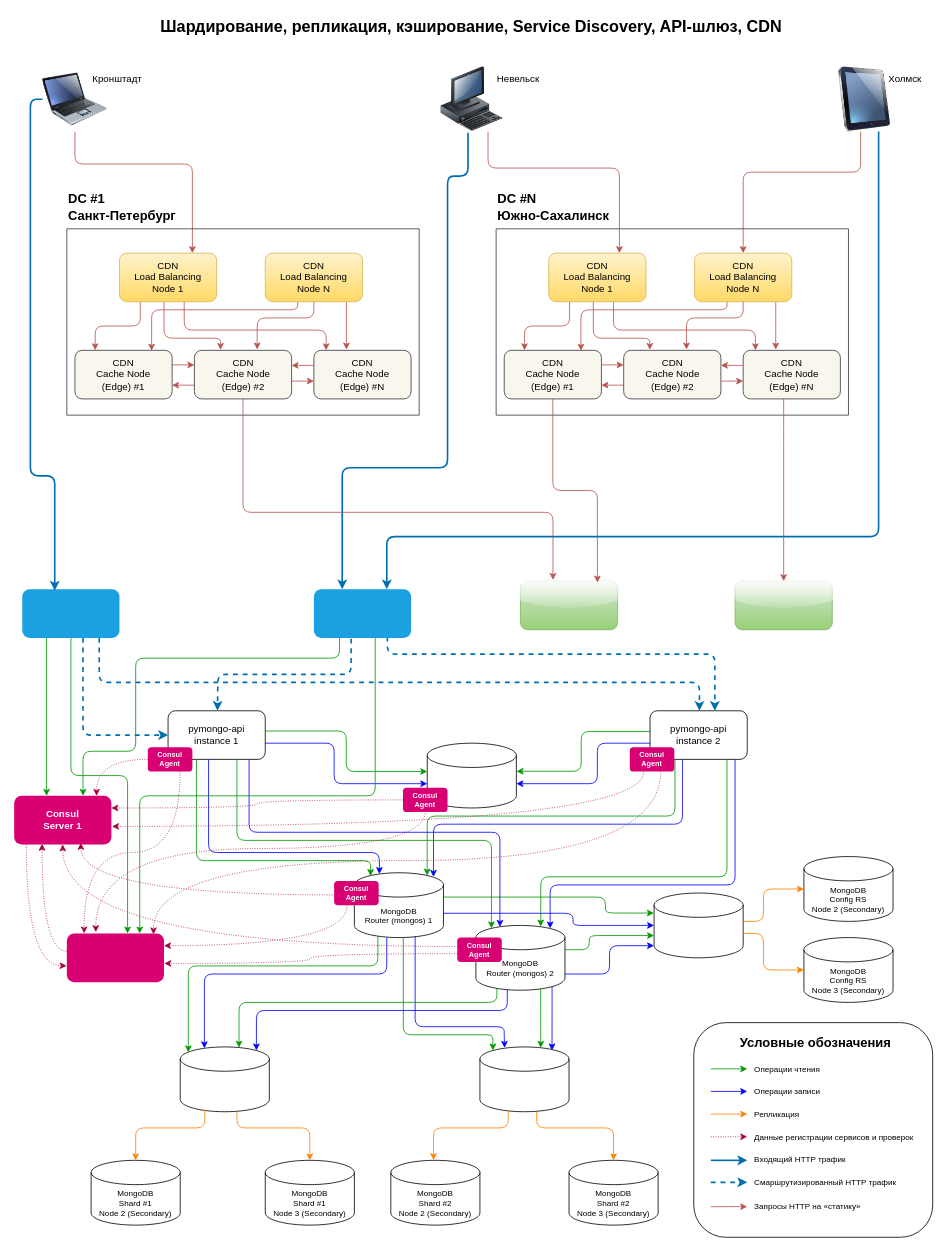
This 947x1251 diagram has some shape labels left out. The shapes that lost their labels are listed below. From the top down, each one's centre as x and y in pixels, then its label:
the point at 70,613: Fabio 1
the point at 362,613: Fabio 2
the point at 569,605: Nginx for static #1
the point at 783,605: Nginx for static #N
the point at 471,775: Redis
the point at 698,925: MongoDB Config RS Node 1 (Primary)
the point at 115,957: Consul Server 2
the point at 224,1079: MongoDB Shard #1 Node 1 (Primary)
the point at 524,1079: MongoDB Shard #2 Node 1 (Primary)
